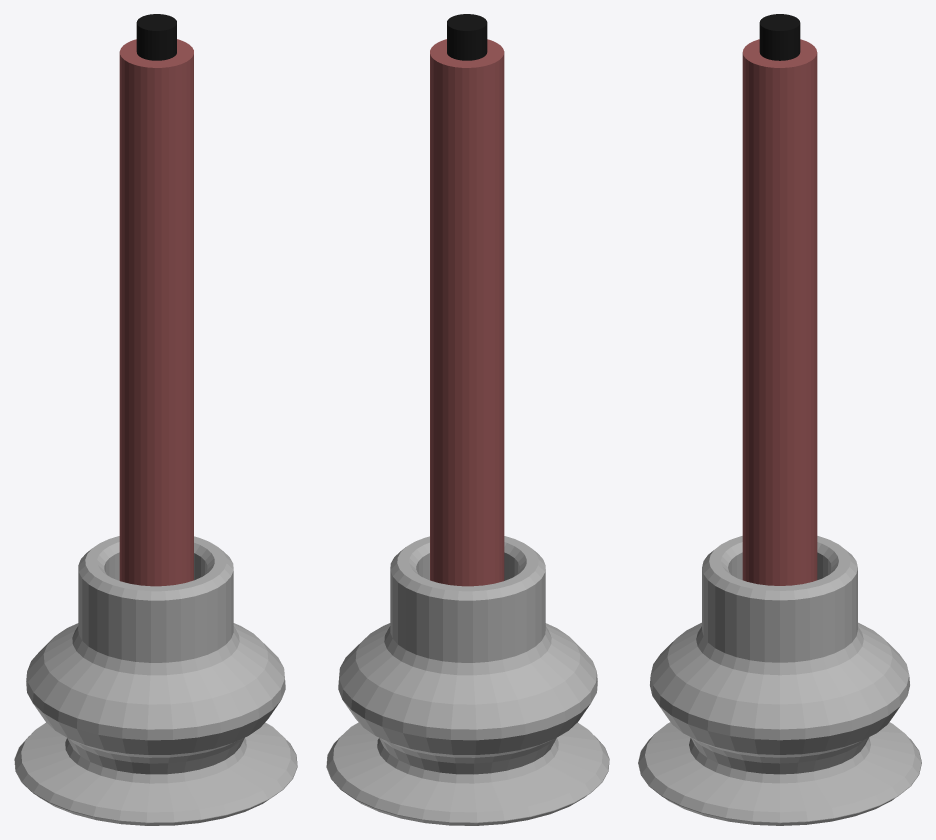
Rendered from Candlestick.fbx.
3 views of the same model, side by side, from view 1: azimuth 30°, elevation 25°; view 2: azimuth 150°, elevation 25°; view 3: azimuth 270°, elevation 25° (orthographic).
Parts seen in each view (by area): view 1: Cylinder.002; view 2: Cylinder.002; view 3: Cylinder.002.
Part boxes in pixels (x1,y1,x2,y2): Cylinder.002: [14, 14, 297, 825]; Cylinder.002: [326, 14, 609, 825]; Cylinder.002: [638, 14, 921, 825].
Bounding box in the file's own units: 46.83 × 136 × 46.83.
